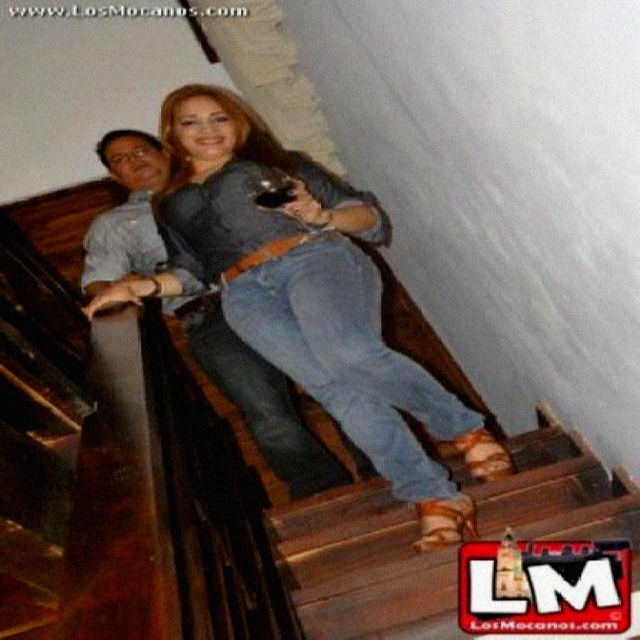stair: (254, 423, 638, 639)
